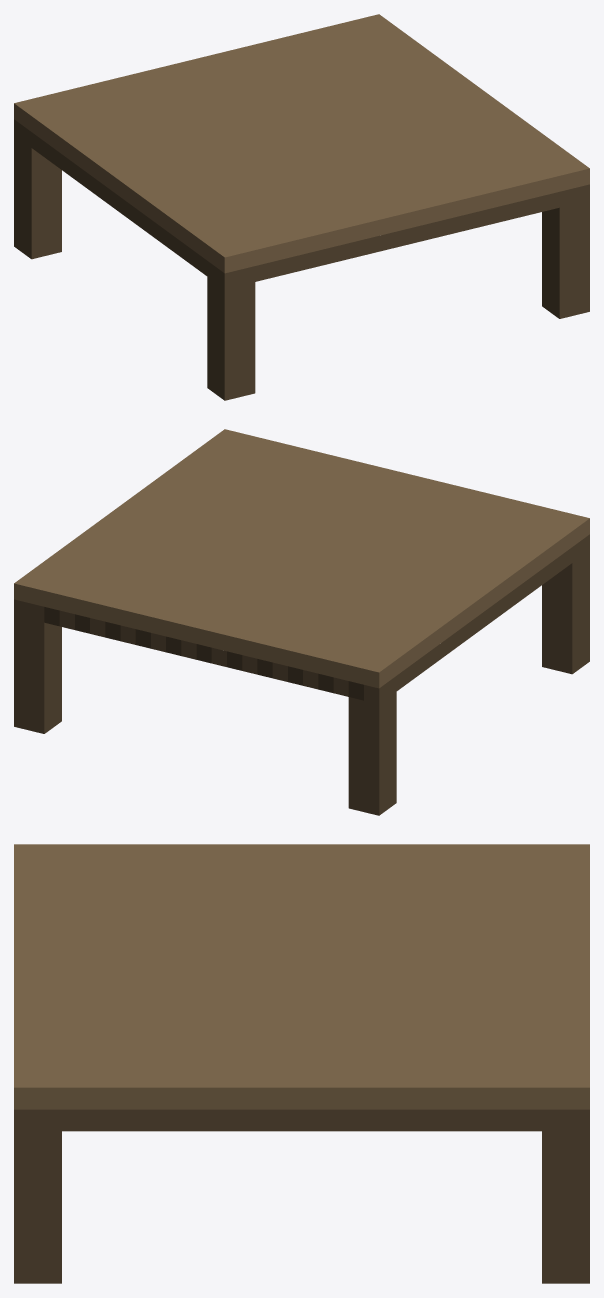
Rendered from mesa_comedor_pequena_nogal_tallado_01.glb.
The picture shows the model from 3 angles, top to bottom: view 1: azimuth 30°, elevation 25°; view 2: azimuth 150°, elevation 25°; view 3: azimuth 270°, elevation 25°; orthographic projection. The views are drawn at different scales.
Visible parts, largest first — view 1: mesa_comedor_pequena_nogal_tallado; view 2: mesa_comedor_pequena_nogal_tallado; view 3: mesa_comedor_pequena_nogal_tallado.
Part boxes in pixels (x1,y1,x2,y2): mesa_comedor_pequena_nogal_tallado: (14, 14, 589, 400); mesa_comedor_pequena_nogal_tallado: (14, 429, 589, 815); mesa_comedor_pequena_nogal_tallado: (14, 844, 589, 1283).
Size of the model in its own units: 2 by 0.75 by 2.
